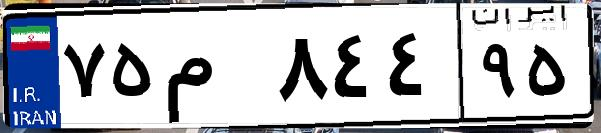4: (385, 28, 445, 110), (330, 28, 385, 110)
5: (525, 38, 570, 115), (110, 28, 158, 98)
7: (57, 26, 110, 100)
8: (270, 28, 330, 110)
9: (475, 38, 525, 113)
م: (158, 20, 270, 120)
